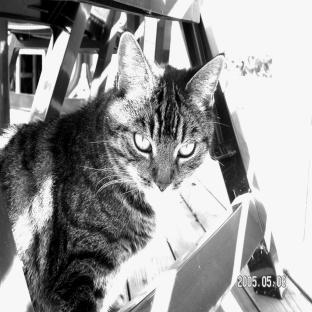Animal: (0, 32, 225, 312)
